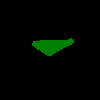mutande: (31, 38, 74, 56)
